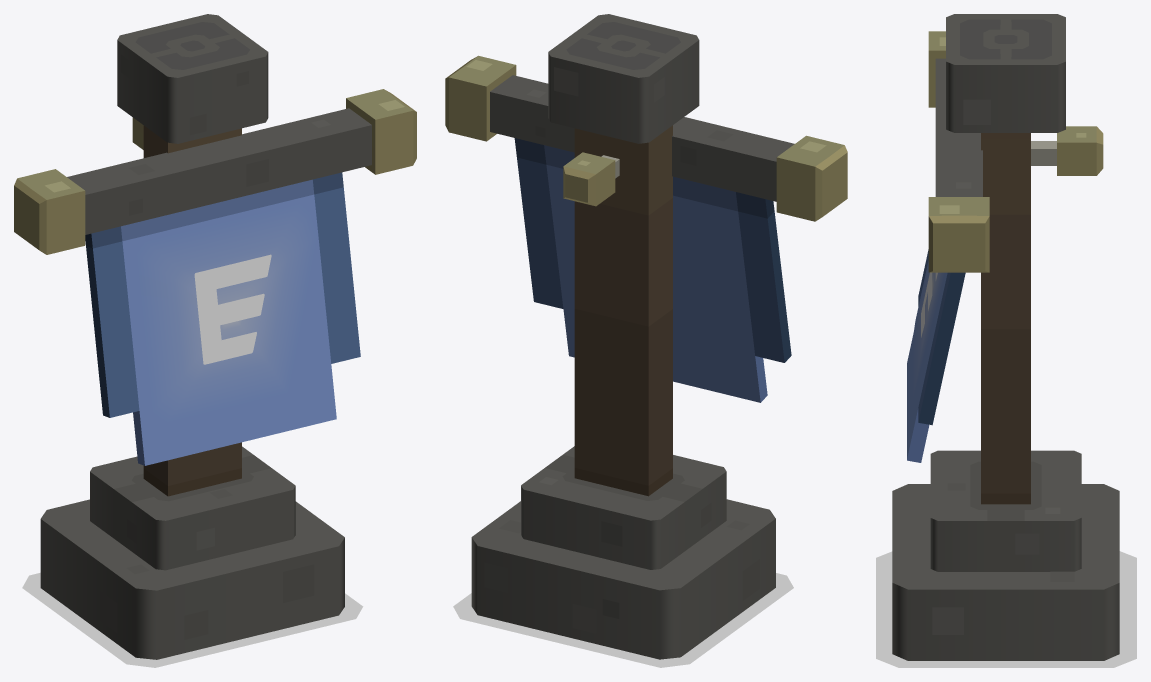
File: MG_typeBanner_flyingtype.fbx
The picture shows the model from 3 angles, left to right: view 1: azimuth 30°, elevation 25°; view 2: azimuth 150°, elevation 25°; view 3: azimuth 270°, elevation 25°; orthographic projection. The views are drawn at different scales.
Visible parts, largest first — view 1: polySurface6, polySurface5, ground; view 2: polySurface6, polySurface5, ground; view 3: polySurface6, polySurface5, ground.
Part boxes in pixels (x1,y1,x2,y2): polySurface6: [14, 14, 416, 659]; polySurface5: [85, 172, 360, 465]; ground: [22, 572, 363, 667]; polySurface6: [445, 14, 847, 659]; polySurface5: [514, 138, 791, 402]; ground: [453, 573, 793, 667]; polySurface6: [892, 14, 1119, 660]; polySurface5: [907, 249, 965, 462]; ground: [876, 551, 1136, 667].
Size of the model in its own units: 5.12 by 7.14 by 2.97.
